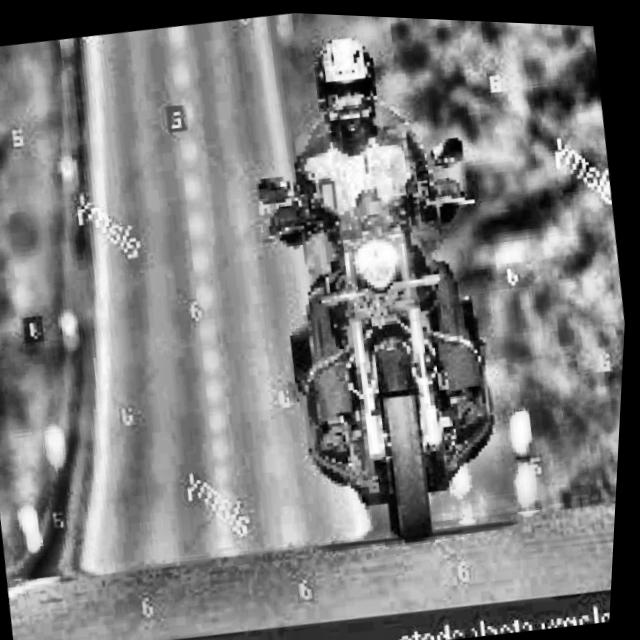motorcycle: (231, 102, 546, 562)
